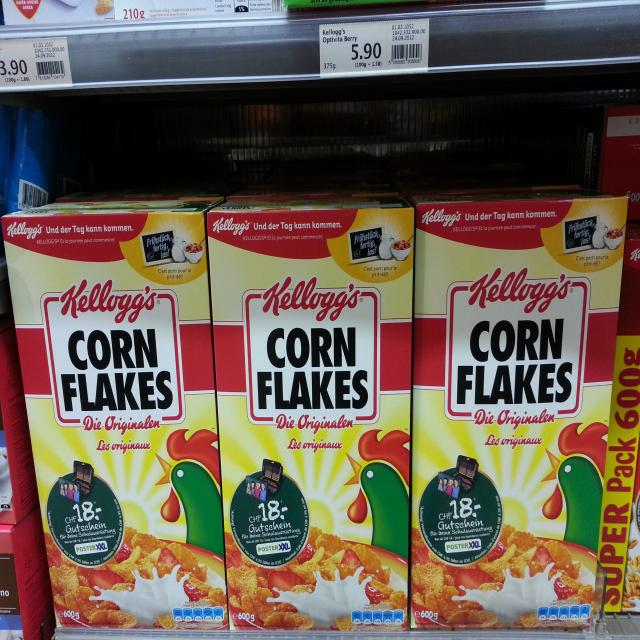Cereals: (0, 204, 230, 640), (414, 195, 626, 640), (204, 201, 412, 640)
